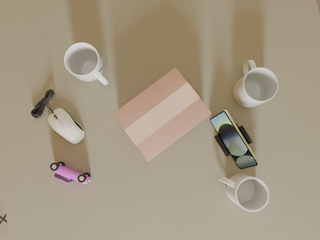box: (113, 68, 211, 161)
cup: (233, 60, 278, 108), (218, 174, 269, 212), (64, 43, 109, 85)
mouse: (48, 108, 84, 144)
phone: (210, 110, 259, 169)
toy_car: (49, 162, 91, 184)
